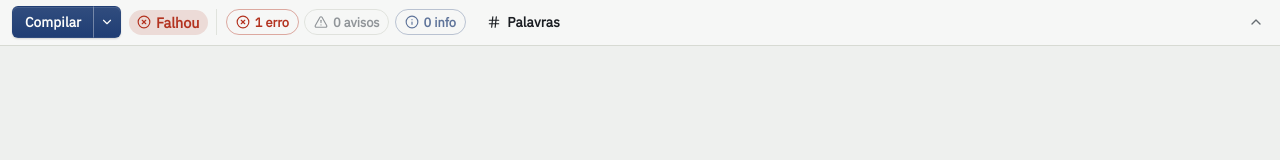
it: BuildPanel compact bar and logs toggle › keeps compile, status and word count visible while logs stay closed, and the toggle reveals them
Expected: the text "Falhou" is shown, [129, 10, 208, 35]
Expected: the button "Compilar" is shown, [12, 6, 93, 38]
Click the button named "Mostrar logs". click: (1256, 22)
box: [1244, 10, 1268, 34]
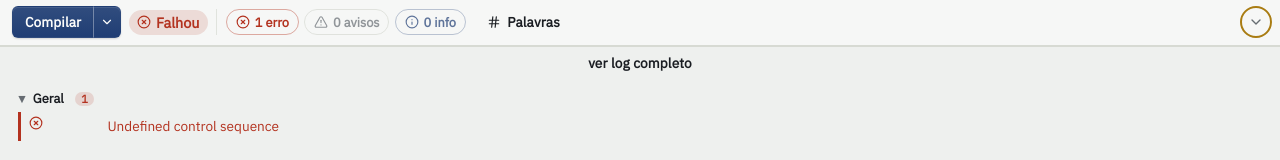
Expected: the text "Undefined control sequence" is shown, [107, 117, 279, 135]
